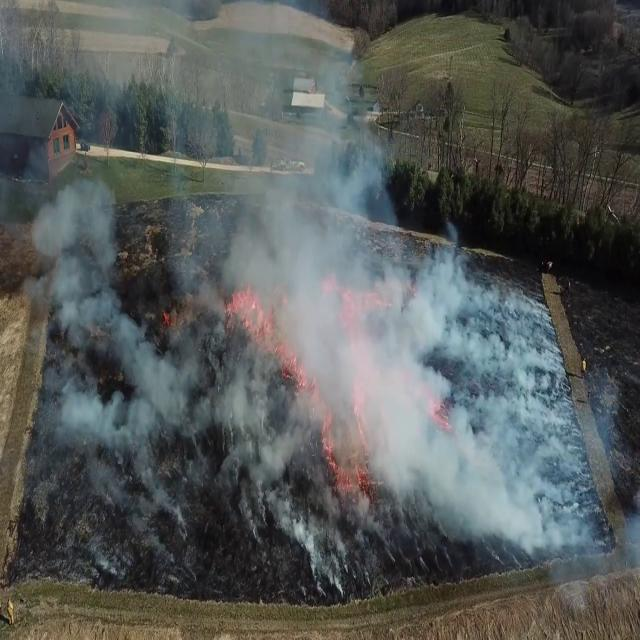Fire: (221, 279, 286, 375)
Smoke: (4, 32, 507, 590)
